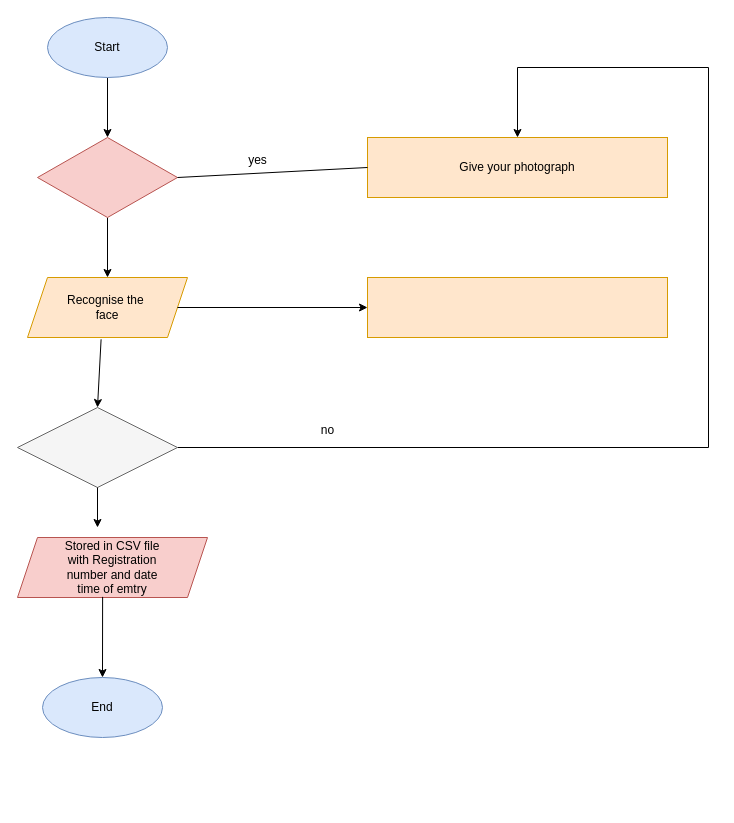
Some shapes in this 734 by 823 pixel diagram are drawn without their labels. The centre of each missing label's shape, as x and y in pixels:
"Face Recognized" goes at point 97,447.
"New User" goes at point 107,177.
"Store the face data and folder on your name" goes at point 517,307.
